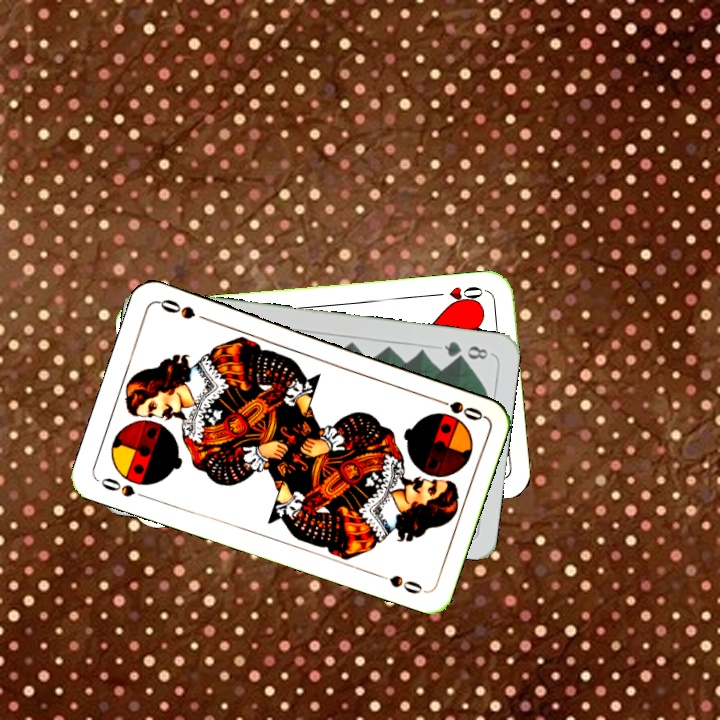G8: (440, 337, 494, 363)
HO: (429, 282, 488, 308)
SO: (429, 393, 486, 424), (96, 473, 152, 502)
